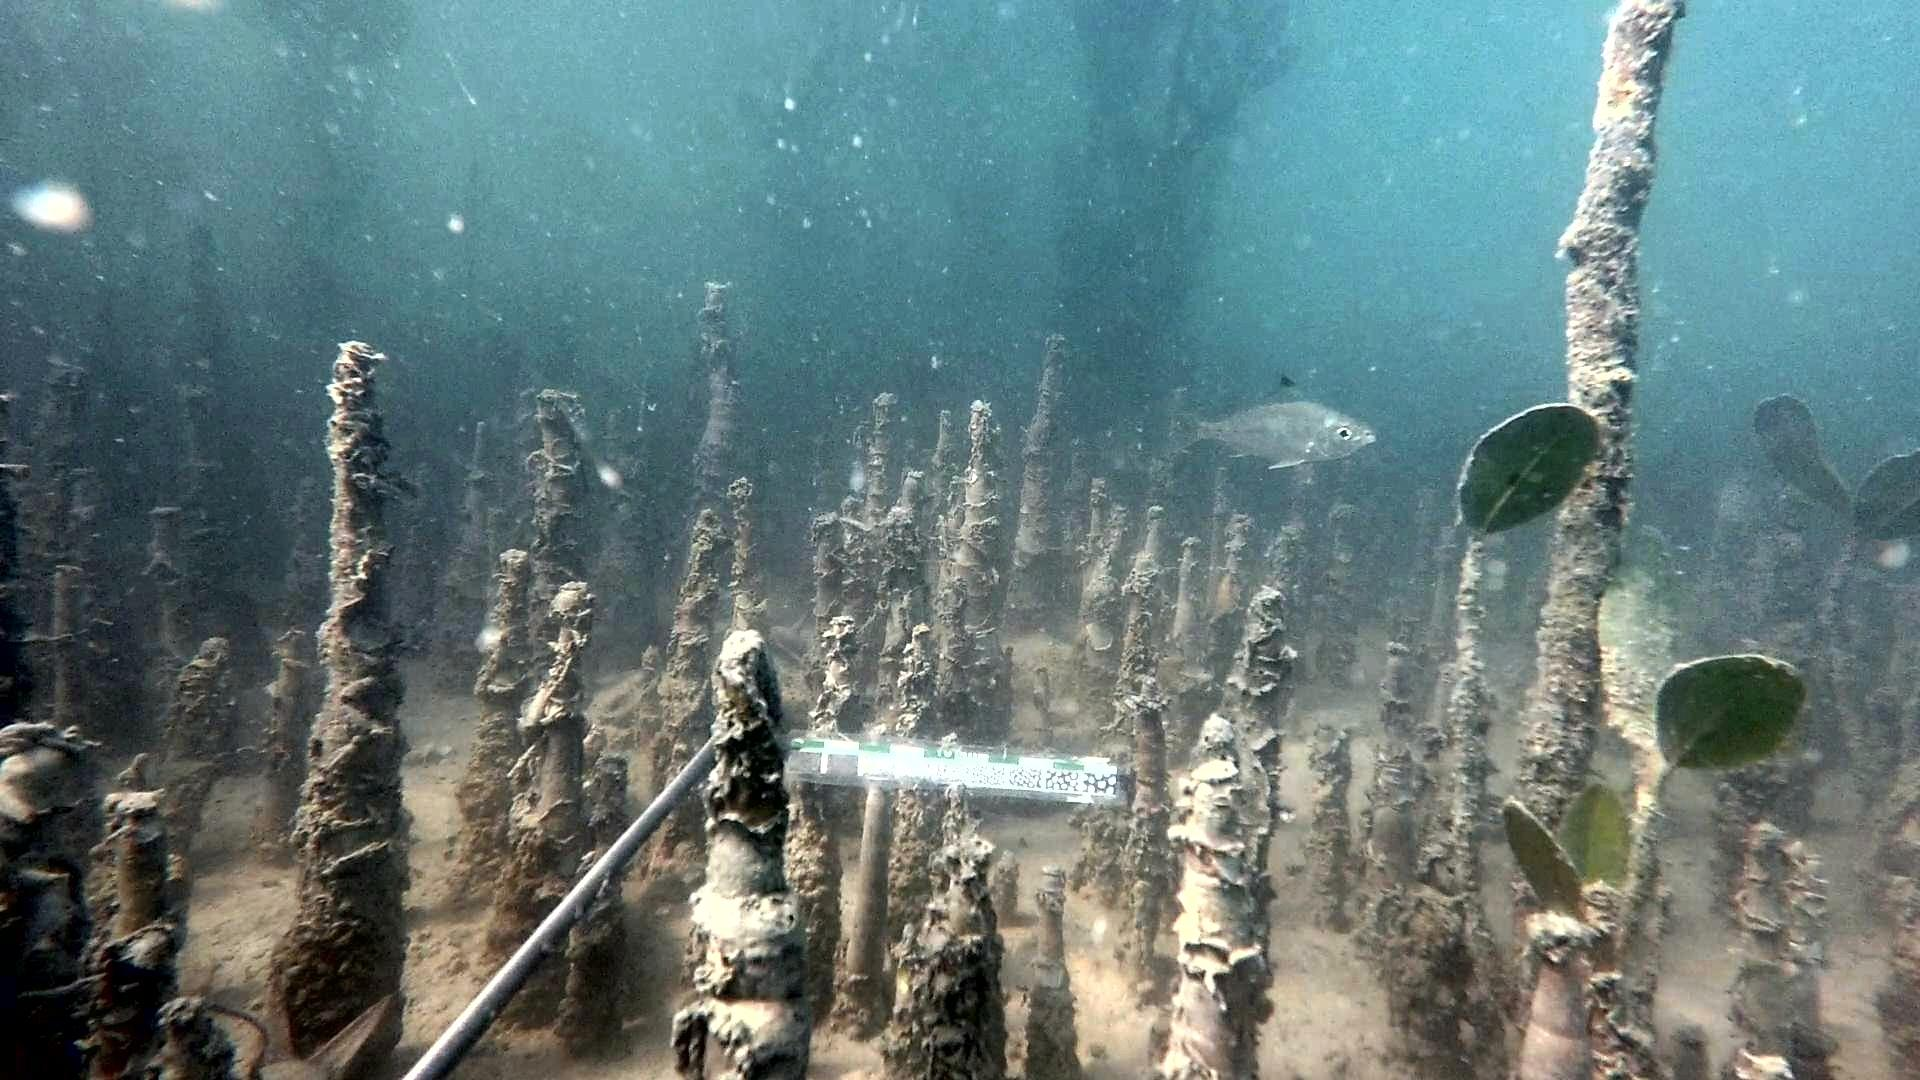gerres: (1159, 373, 1379, 471)
